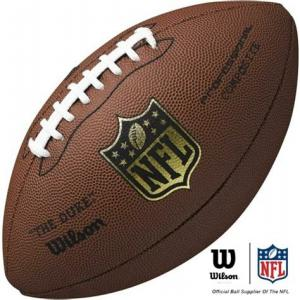Rugby: (2, 1, 299, 300)
